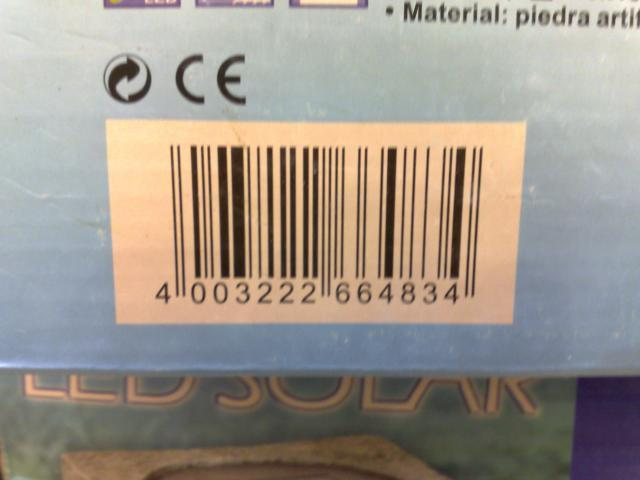Barcode: (149, 135, 494, 315)
